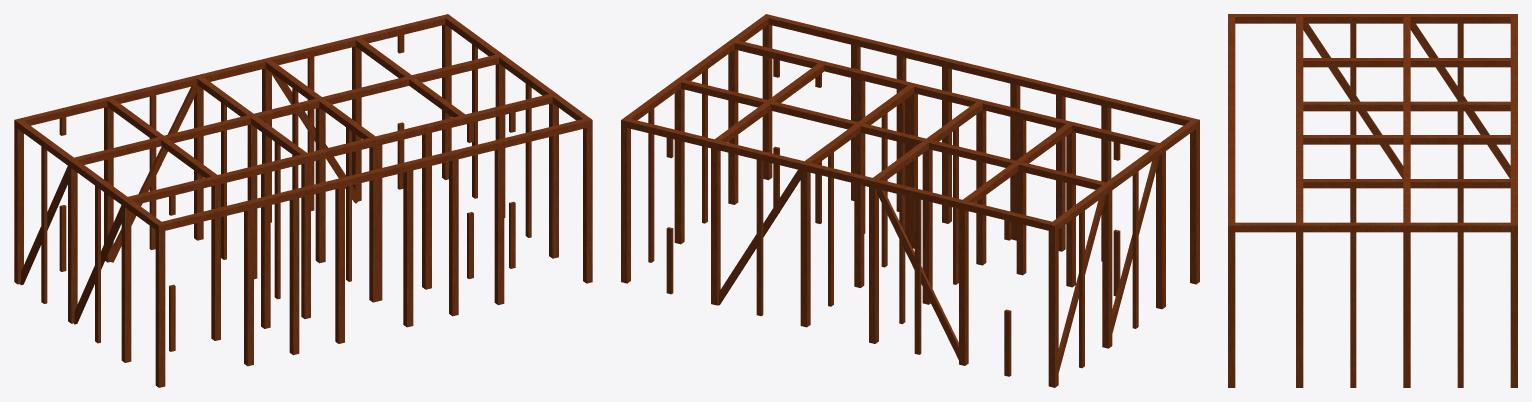
File: 05 COLUMNAS.glb
The picture shows the model from 3 angles, left to right: view 1: azimuth 30°, elevation 25°; view 2: azimuth 150°, elevation 25°; view 3: azimuth 270°, elevation 25°; orthographic projection.
Parts seen in each view (by area): view 1: COLUMNAS_ (×25), 138210, 139257, COLUMNAS_#11 (×2), 138202, COLUMNAS_#10, 139513, 139510, 138384, 139512, 137400, 137403 (+32 smaller); view 2: COLUMNAS_ (×25), COLUMNAS_#11 (×2), 139257, 138210, COLUMNAS_#10, 139523, 138394, 138202, COLUMNAS_#12, 139512, 138385, 139513 (+32 smaller); view 3: COLUMNAS_ (×4), COLUMNAS_#11 (×2), 138212, 138213, 139265, 139264, 138385, 138384, 138216, 138215, 138218, 138217 (+22 smaller).
Boxes of the visible parts, <box> form: COLUMNAS_ (×25): <box>14,24,592,387</box>; 138210: <box>321,55,499,104</box>; 139257: <box>73,115,251,164</box>; COLUMNAS_#11 (×2): <box>20,166,121,324</box>; 138202: <box>428,94,552,132</box>; COLUMNAS_#10: <box>108,85,199,262</box>; 139513: <box>41,146,47,303</box>; 139510: <box>274,142,280,299</box>; 138384: <box>525,83,531,237</box>; 139512: <box>95,186,100,343</box>; 137400: <box>499,119,586,148</box>; 137403: <box>409,141,496,170</box>; COLUMNAS_ (×25): <box>621,24,1199,387</box>; COLUMNAS_#11 (×2): <box>1058,156,1159,372</box>; 139257: <box>928,140,1106,189</box>; 138210: <box>680,79,858,129</box>; COLUMNAS_#10: <box>877,189,958,359</box>; 139523: <box>914,198,921,354</box>; 138394: <box>756,159,763,316</box>; 138202: <box>734,40,859,78</box>; COLUMNAS_#12: <box>718,169,800,305</box>; 139512: <box>1132,171,1138,328</box>; 138385: <box>648,108,654,262</box>; 139513: <box>1079,210,1084,368</box>; COLUMNAS_ (×4): <box>1228,232,1517,387</box>; COLUMNAS_#11 (×2): <box>1303,22,1510,178</box>; 138212: <box>1303,222,1403,232</box>; 138213: <box>1410,222,1510,232</box>; 139265: <box>1303,101,1403,111</box>; 139264: <box>1410,101,1510,111</box>; 138385: <box>1457,232,1463,387</box>; 138384: <box>1350,232,1356,387</box>; 138216: <box>1303,135,1403,144</box>; 138215: <box>1410,135,1510,144</box>; 138218: <box>1303,179,1403,188</box>; 138217: <box>1410,179,1510,188</box>.
Bounding box in the file's own units: 7 × 2.53 × 4.05.
Materials: 570 (570 with a texture image).
